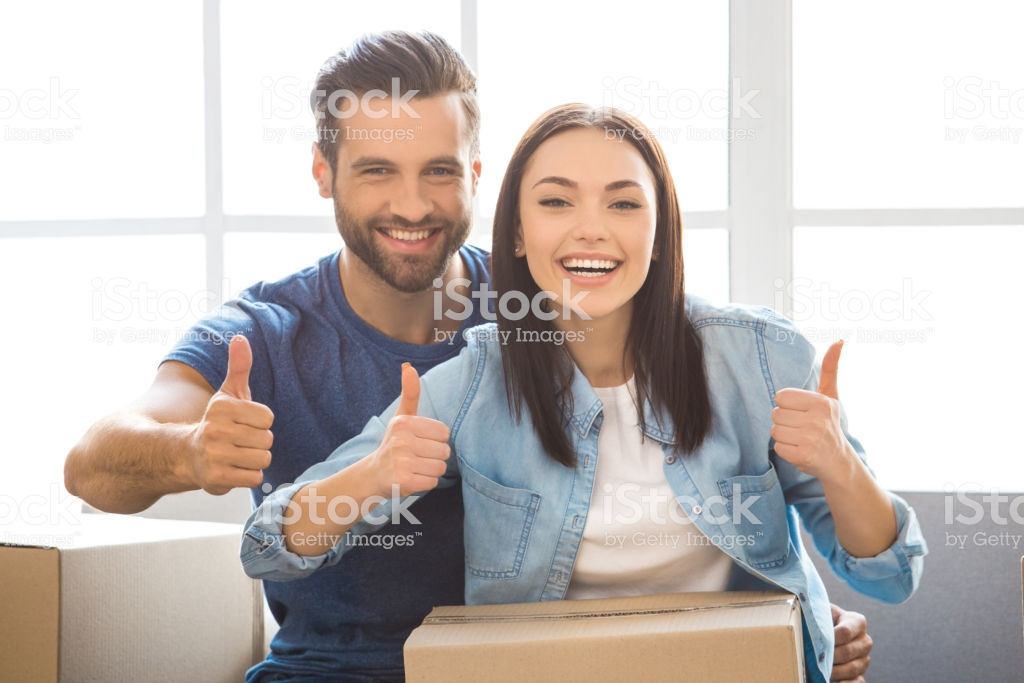thumbsup: (196, 334, 276, 497), (768, 337, 846, 469), (381, 359, 454, 499)
